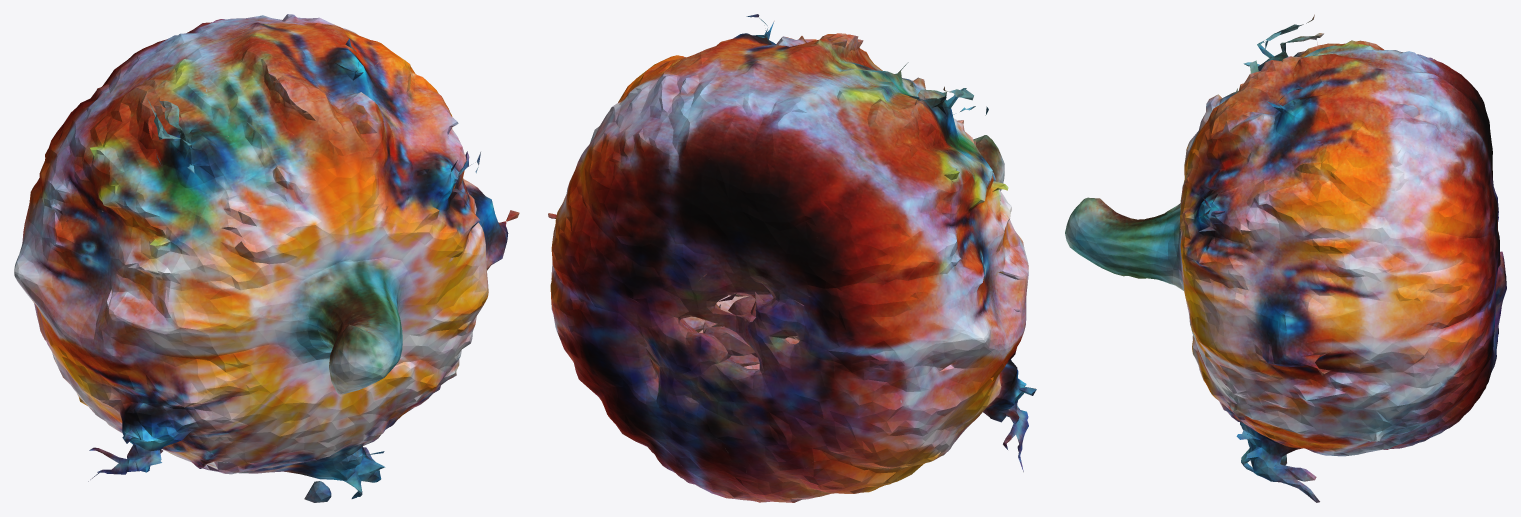
File: A pumpkin covered in cobwebs with plastic spiders crawling on it.glb
3 views of the same model, side by side, from view 1: azimuth 30°, elevation 25°; view 2: azimuth 150°, elevation 25°; view 3: azimuth 270°, elevation 25° (orthographic). The views are drawn at different scales.
Size of the model in its own units: 1.5 by 1.38 by 1.37.
Materials: 1 (1 with a texture image).
